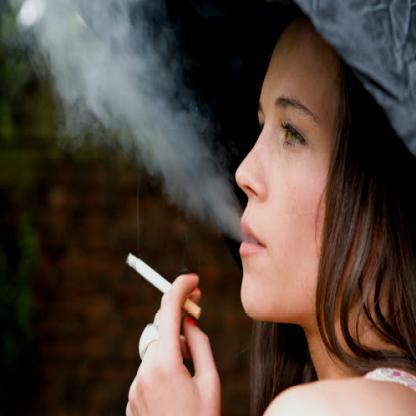cigarette: (124, 252, 202, 318)
person: (234, 11, 415, 415)
smoke: (94, 72, 238, 236), (15, 0, 182, 128)
